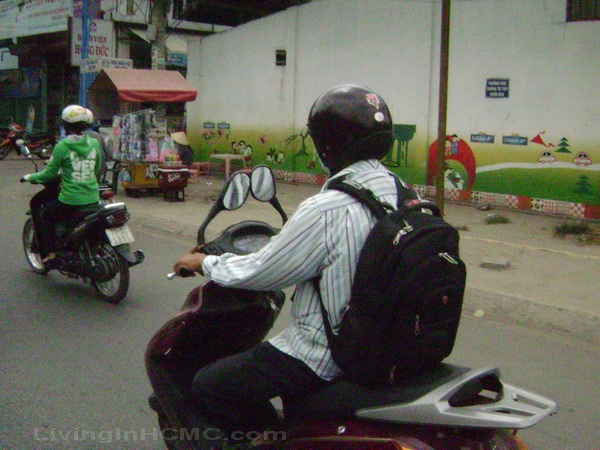non-vehicle: (141, 164, 552, 444), (21, 205, 136, 306)
